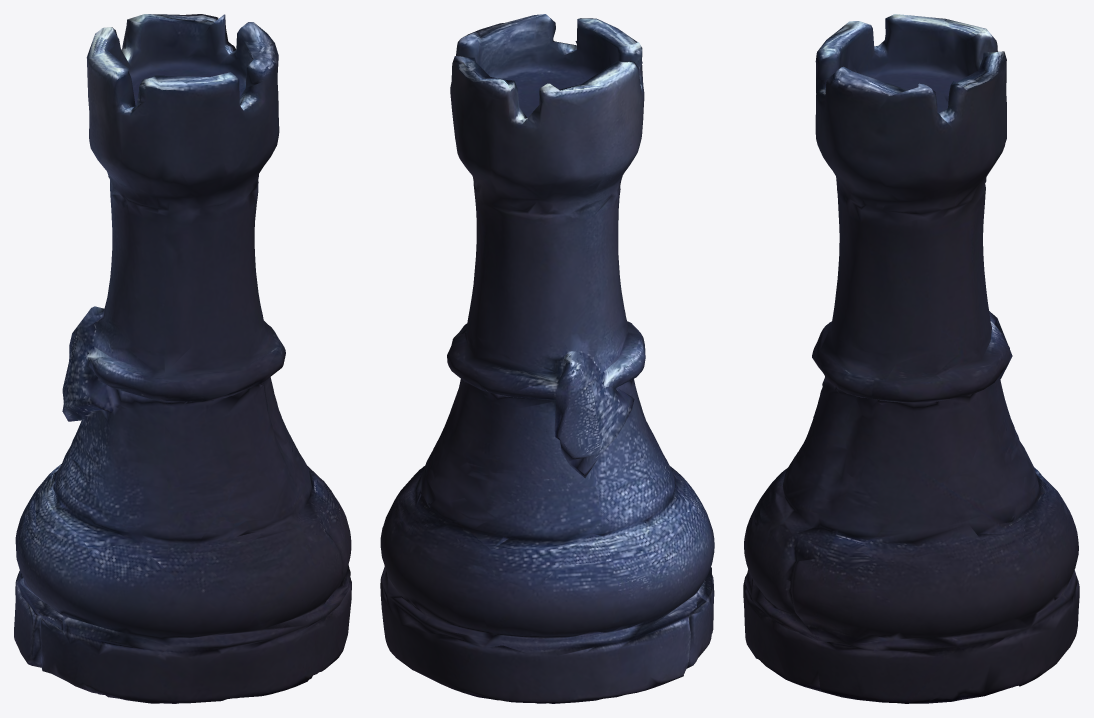
Rendered from rook.glb.
The picture shows the model from 3 angles, left to right: view 1: azimuth 30°, elevation 25°; view 2: azimuth 150°, elevation 25°; view 3: azimuth 270°, elevation 25°; orthographic projection.
Visible parts, largest first — view 1: tripo_node_8a2e5957-8755-4180-b04b-eb721e5fe71b; view 2: tripo_node_8a2e5957-8755-4180-b04b-eb721e5fe71b; view 3: tripo_node_8a2e5957-8755-4180-b04b-eb721e5fe71b.
Part boxes in pixels (<box>): tripo_node_8a2e5957-8755-4180-b04b-eb721e5fe71b: <box>14,14,351,703</box>; tripo_node_8a2e5957-8755-4180-b04b-eb721e5fe71b: <box>380,14,714,703</box>; tripo_node_8a2e5957-8755-4180-b04b-eb721e5fe71b: <box>743,14,1079,703</box>.
Size of the model in its own units: 0.509 by 0.9799 by 0.5086.
Materials: 1 (1 with a texture image).
